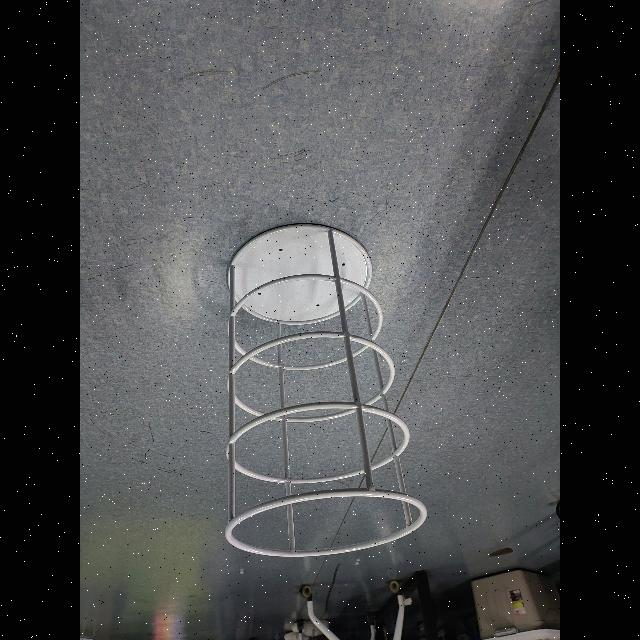S: (208, 218, 432, 564)
